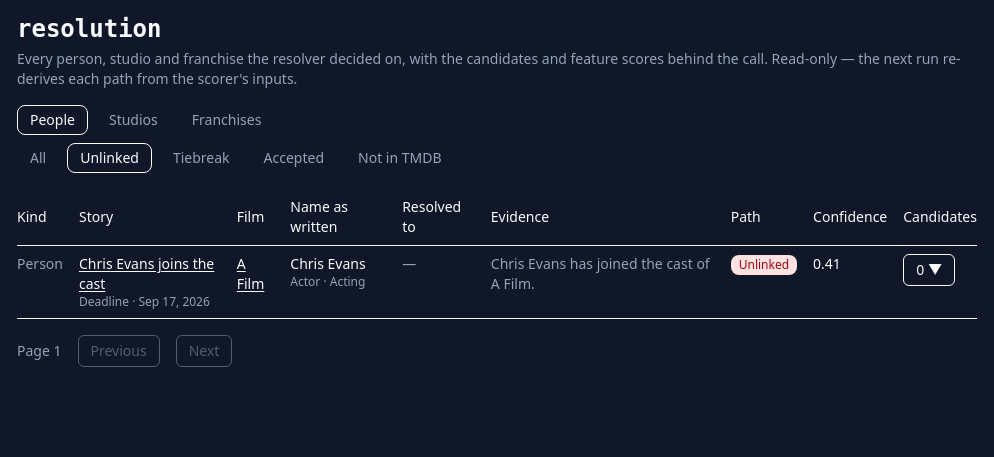
Test: AdminResolution › renders a row per mention with story, film, name, evidence, path and confidence
Click the tab "All". click: (38, 158)
box: [17,143,59,173]
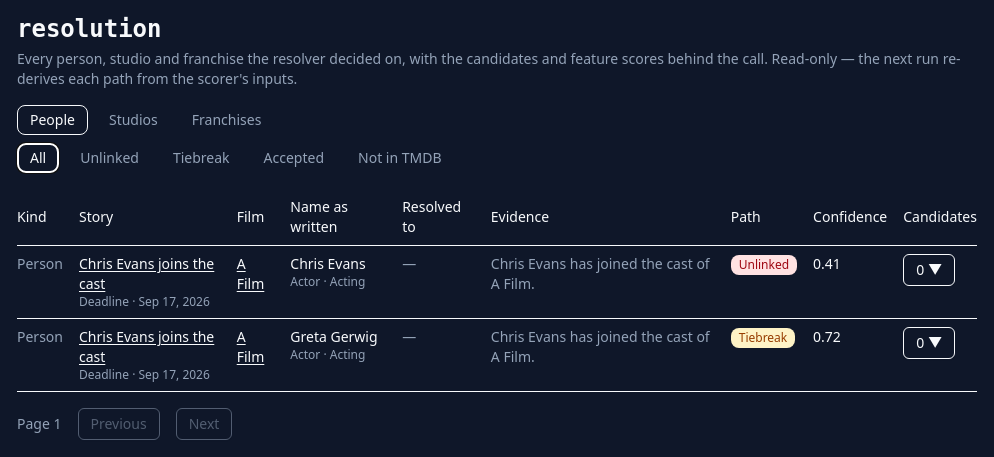
Expected: the text "Person" in the row of "0.41" is shown, [17,254,63,273]
Now the text "Tiebreak" is shown, box [731,328,795,348]
